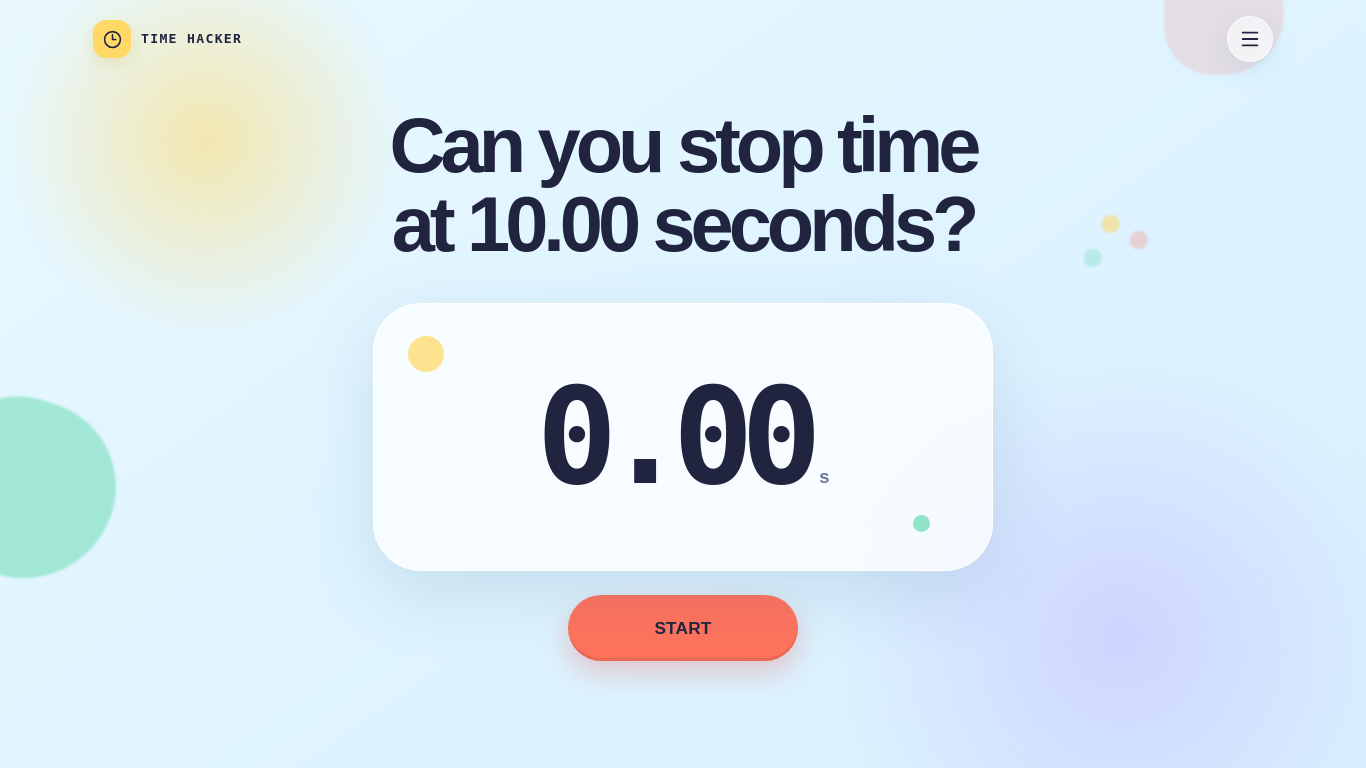
it: TimeHackerApp › moves through READY, RUNNING, and successful STOPPED result states
Click the button "START" at coordinates (683, 628), box left=568, top=596, right=798, bottom=662
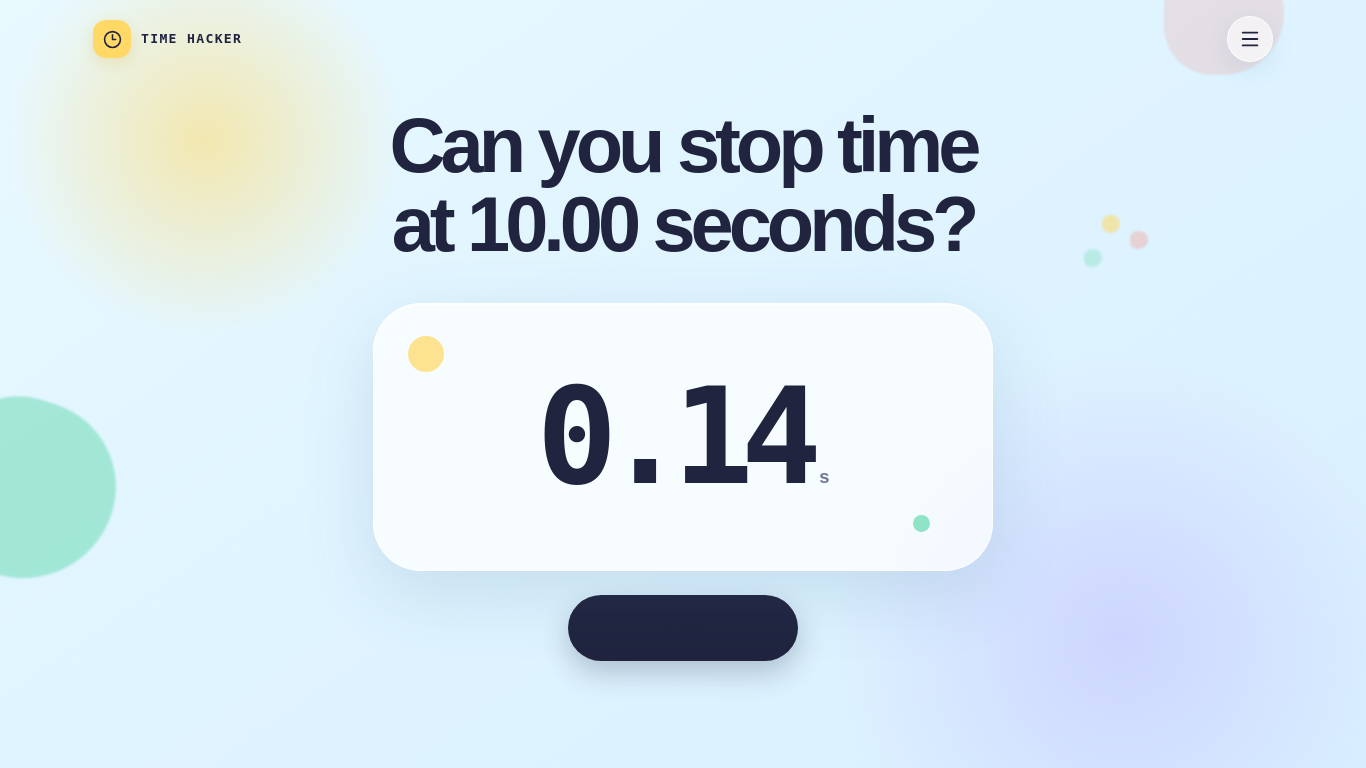
Click the button "STOP" at coordinates (683, 628), box left=568, top=596, right=798, bottom=662
(page scrolled)
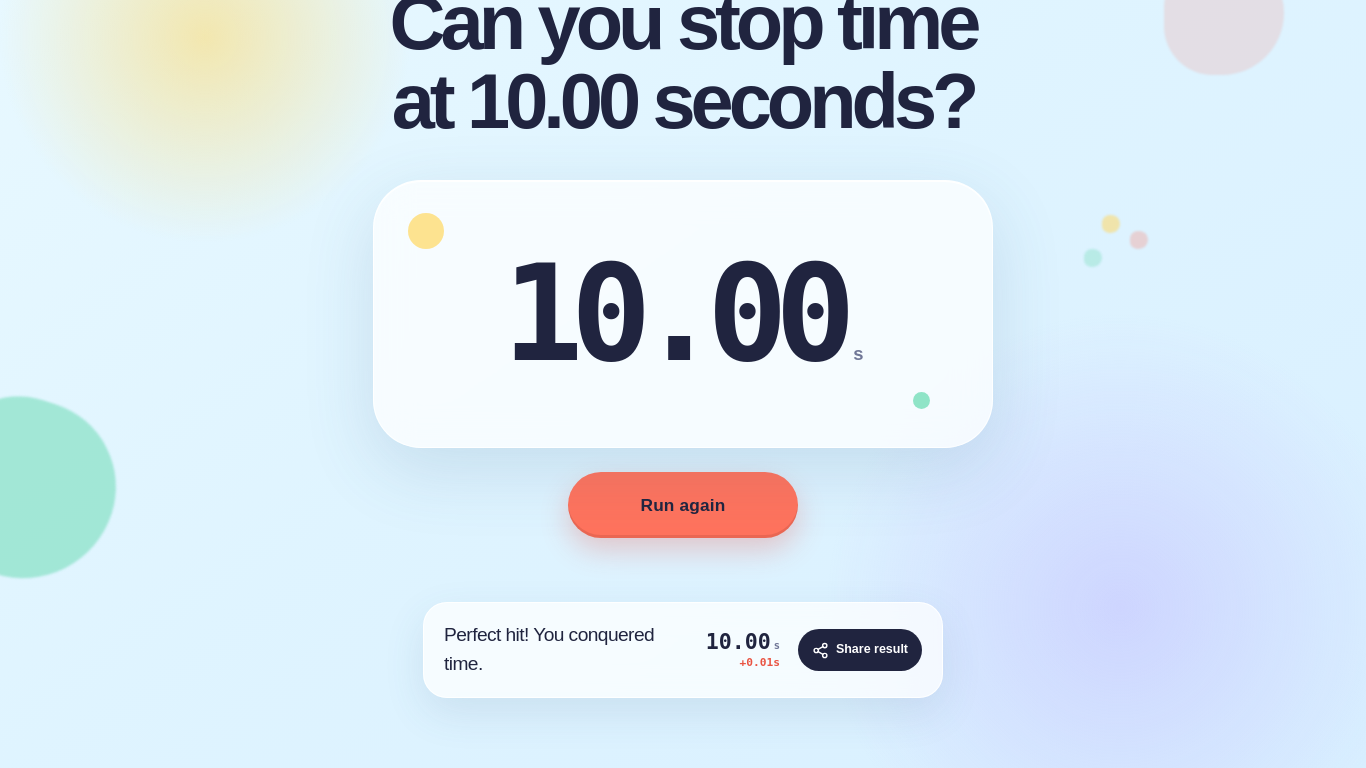
Expected: the heading "Perfect hit! You conquered time." is shown, left=444, top=622, right=688, bottom=679
Expected: the text "10.00" is shown 2 times, left=502, top=254, right=843, bottom=375; left=706, top=631, right=780, bottom=653
